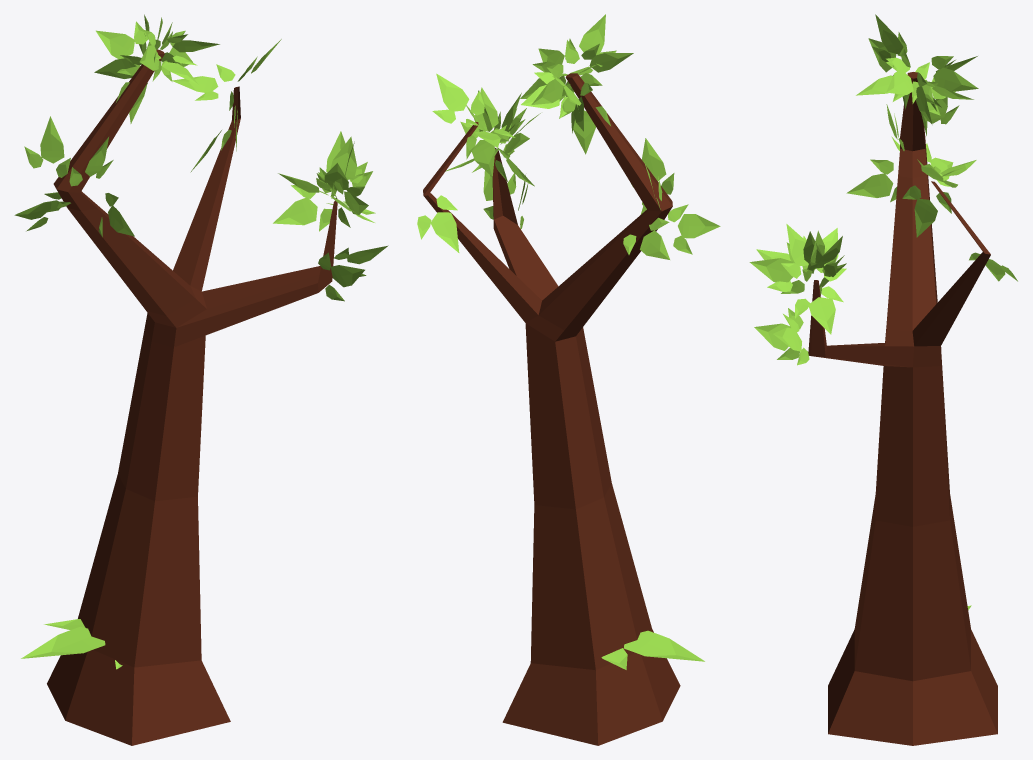
File: tree.glb
3 renders of one model, left to right at view 1: azimuth 30°, elevation 25°; view 2: azimuth 150°, elevation 25°; view 3: azimuth 270°, elevation 25°, orthographic. The views are drawn at different scales.
Parts seen in each view (by area): view 1: Cube, Plane (×8); view 2: Cube, Plane (×13); view 3: Cube, Plane (×14).
Part boxes in pixels (<box>): Cube: <box>47,49,337,745</box>; Plane (×8): <box>21,21,372,669</box>; Cube: <box>423,73,680,745</box>; Plane (×13): <box>417,14,720,669</box>; Cube: <box>808,72,997,745</box>; Plane (×14): <box>749,14,978,365</box>.
Bounding box in the file's own units: 4.42 × 9.06 × 3.17.
